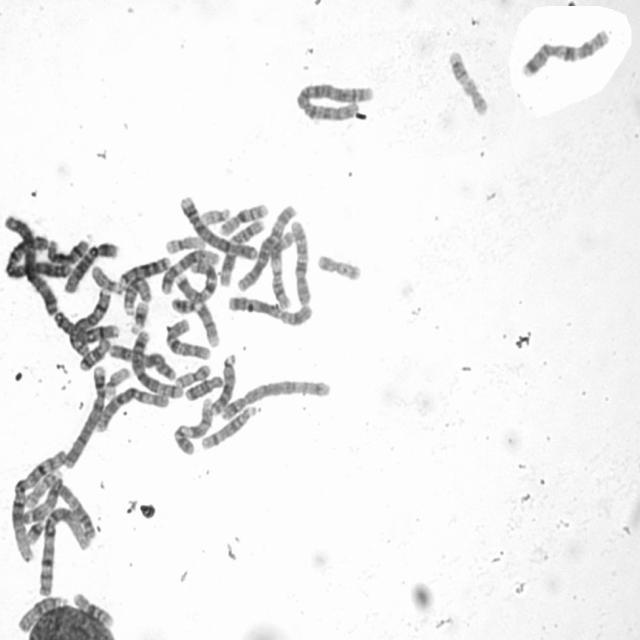A1: (6, 446, 68, 564), (35, 501, 94, 597)
A2: (292, 77, 378, 123), (2, 230, 72, 280)
A3: (2, 211, 61, 318), (20, 471, 98, 544)
B4: (176, 193, 260, 261), (60, 359, 108, 471)
B5: (216, 375, 335, 423), (128, 326, 184, 399)
C10: (162, 315, 214, 361), (288, 214, 313, 307)
C11: (216, 216, 266, 287), (267, 226, 297, 310)
C12: (60, 238, 120, 296), (158, 245, 220, 295)
C6: (234, 199, 298, 295), (93, 384, 170, 432)
C7: (517, 24, 613, 79), (169, 253, 220, 315)
C8: (66, 282, 112, 358), (50, 308, 120, 342)
C9: (173, 270, 221, 348), (171, 394, 215, 456)
D13: (115, 252, 173, 290), (208, 349, 238, 416)
D14: (198, 402, 261, 452), (43, 234, 90, 266)
D15: (14, 591, 69, 635), (121, 273, 154, 315)
E16: (216, 199, 270, 237), (69, 589, 116, 630)
E17: (446, 45, 492, 117), (22, 468, 64, 510)
E18: (76, 335, 112, 372), (183, 371, 225, 402)
F19: (101, 363, 132, 399), (162, 232, 208, 254)
F20: (313, 250, 364, 282), (172, 361, 213, 390)
G21: (127, 298, 150, 335), (22, 514, 46, 544)
G22: (88, 261, 124, 296), (198, 203, 232, 226)
X: (225, 291, 314, 328), (106, 339, 178, 382)
